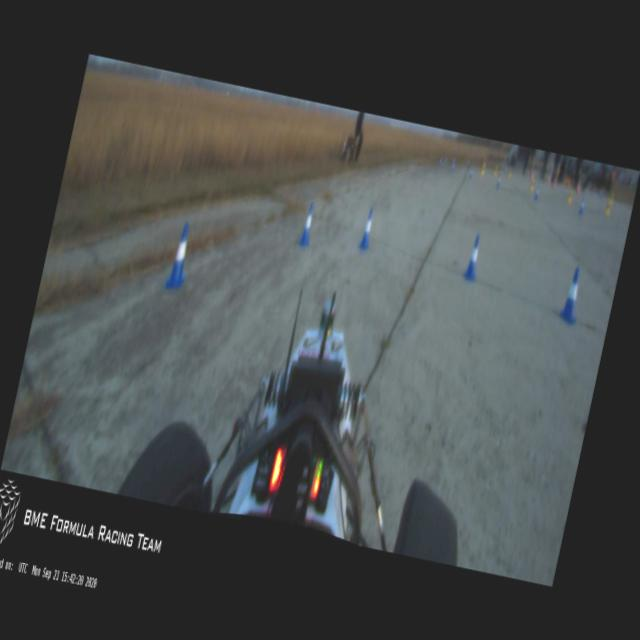blue_cone: (164, 222, 196, 290), (558, 264, 586, 326), (462, 233, 484, 282), (296, 202, 316, 246), (358, 207, 377, 251)
